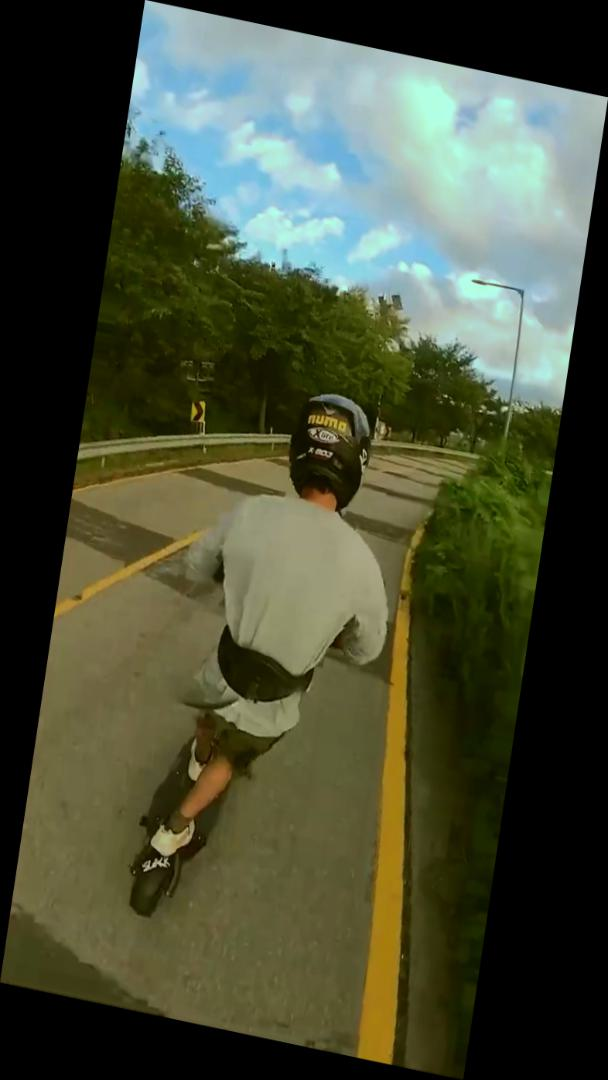helmet: (121, 364, 422, 961)
